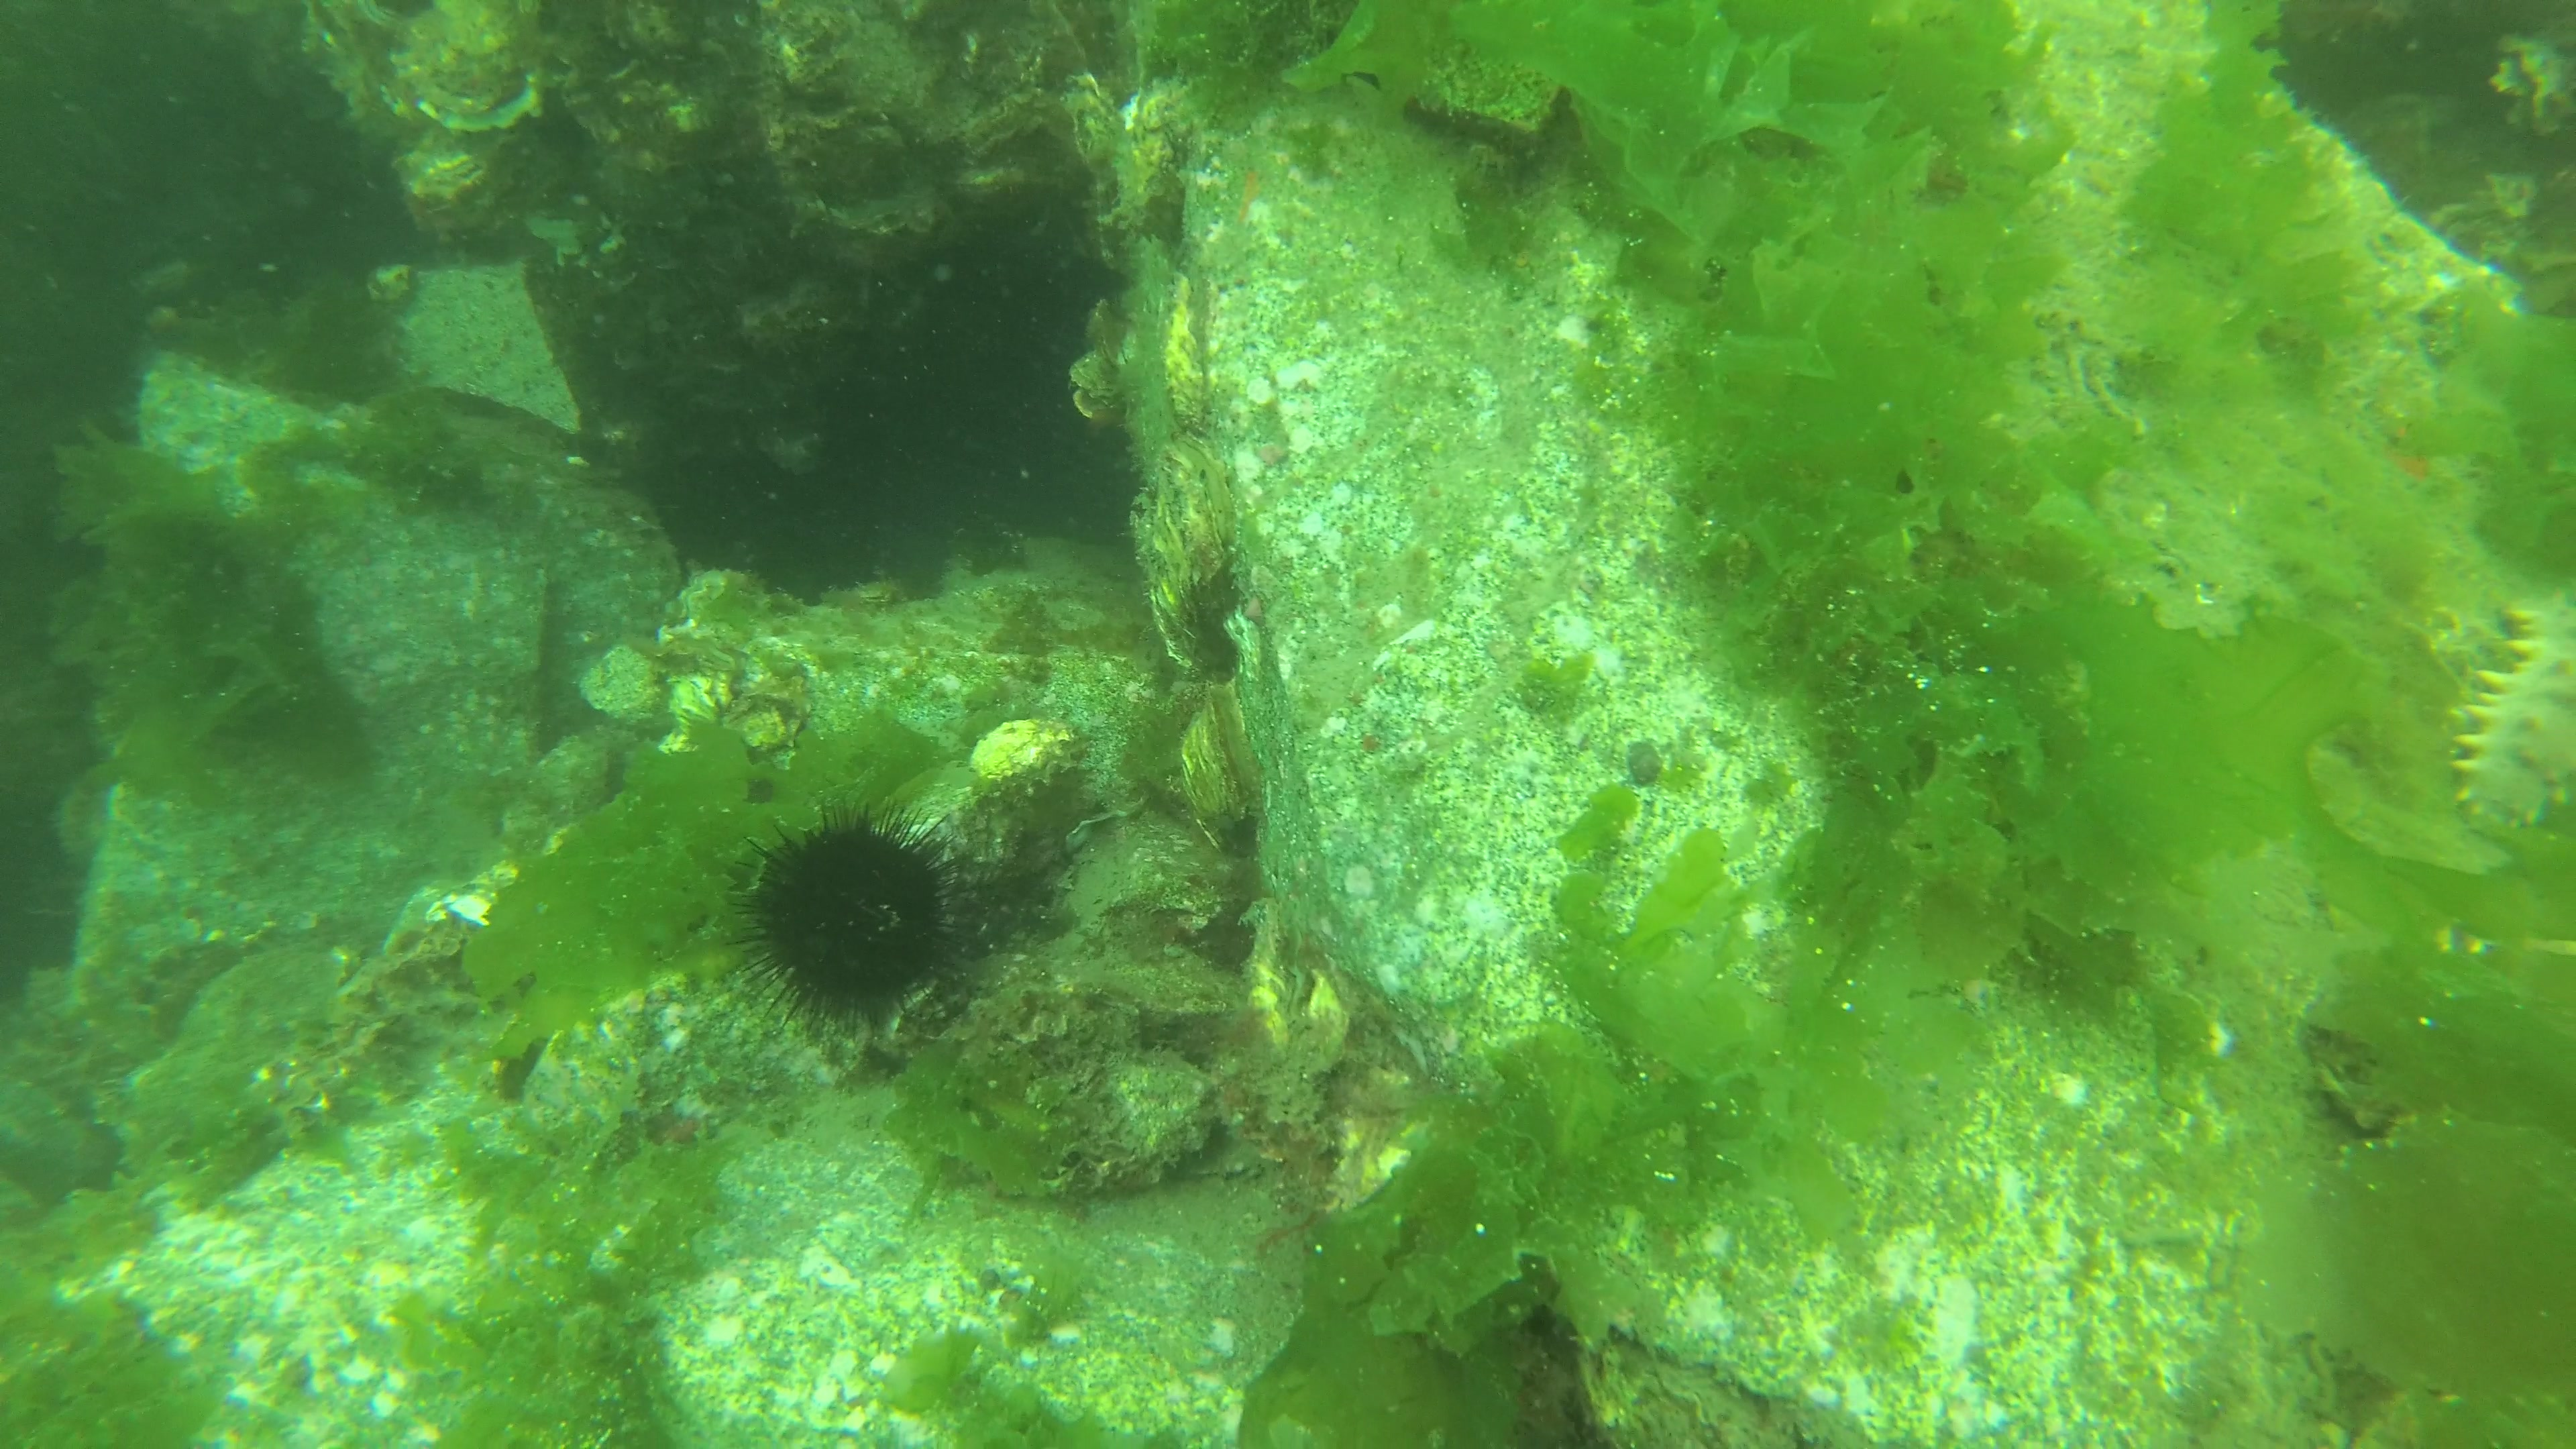echinus: (727, 809, 980, 1042)
holothurian: (2449, 571, 2576, 833)
